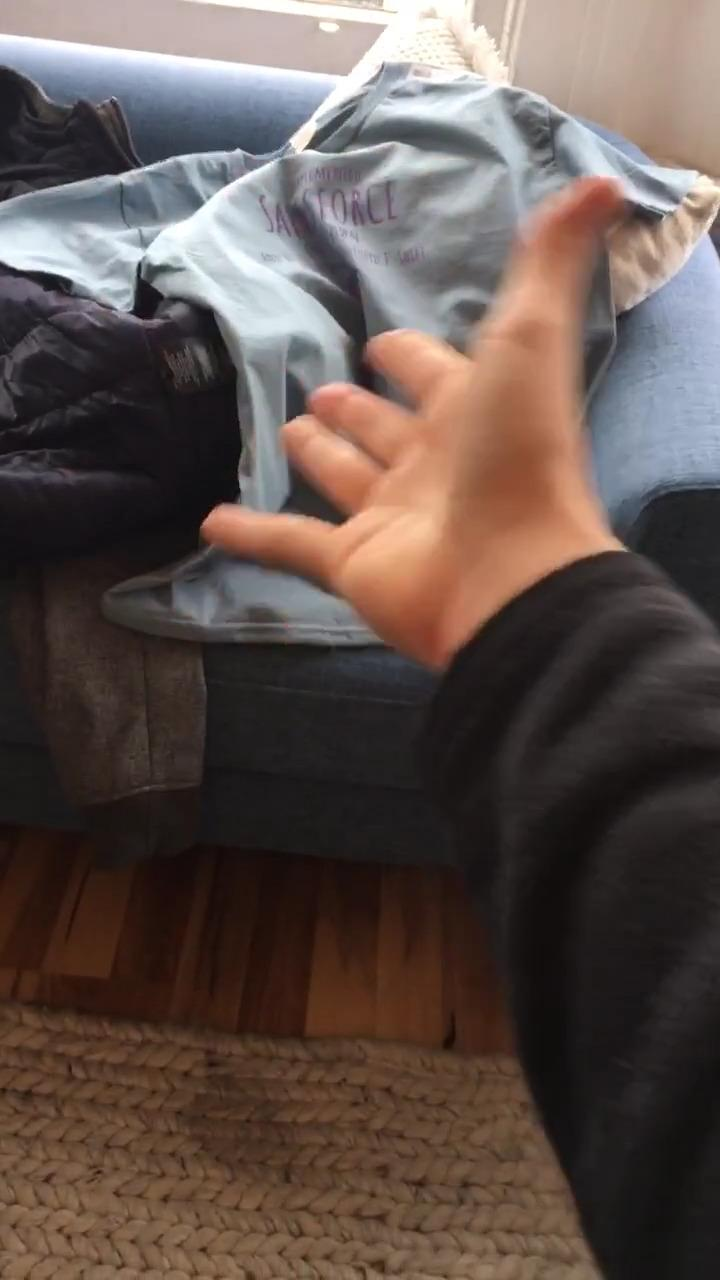Paper: (204, 173, 632, 657)
